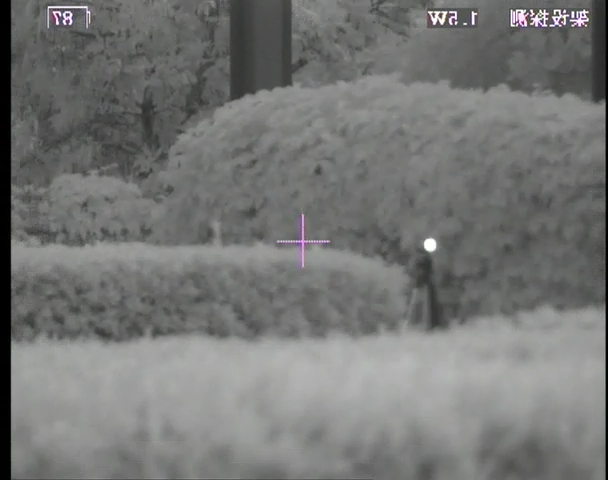my: (422, 237, 438, 254)
